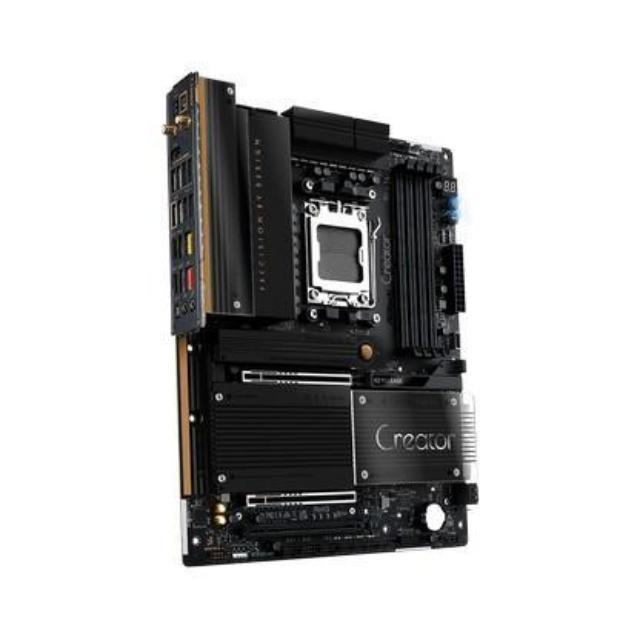Mainboard: (164, 72, 476, 570)
